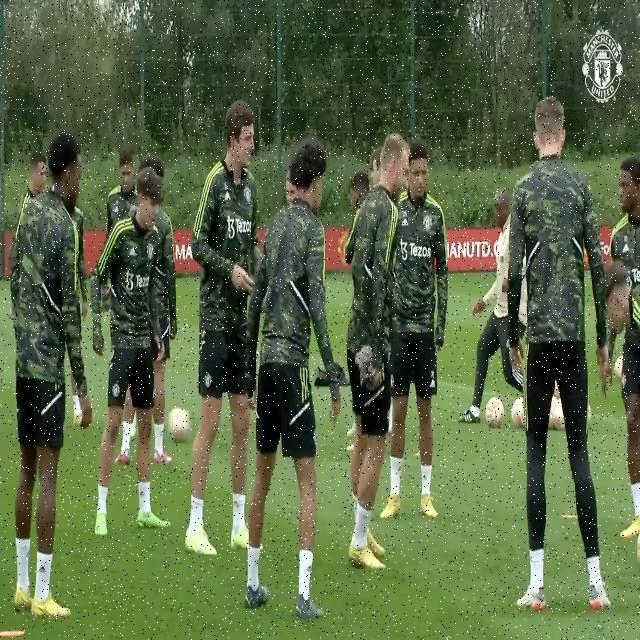Adidas: (305, 560, 312, 574), (225, 188, 231, 202), (39, 563, 46, 575), (402, 216, 409, 227), (130, 245, 136, 257)
